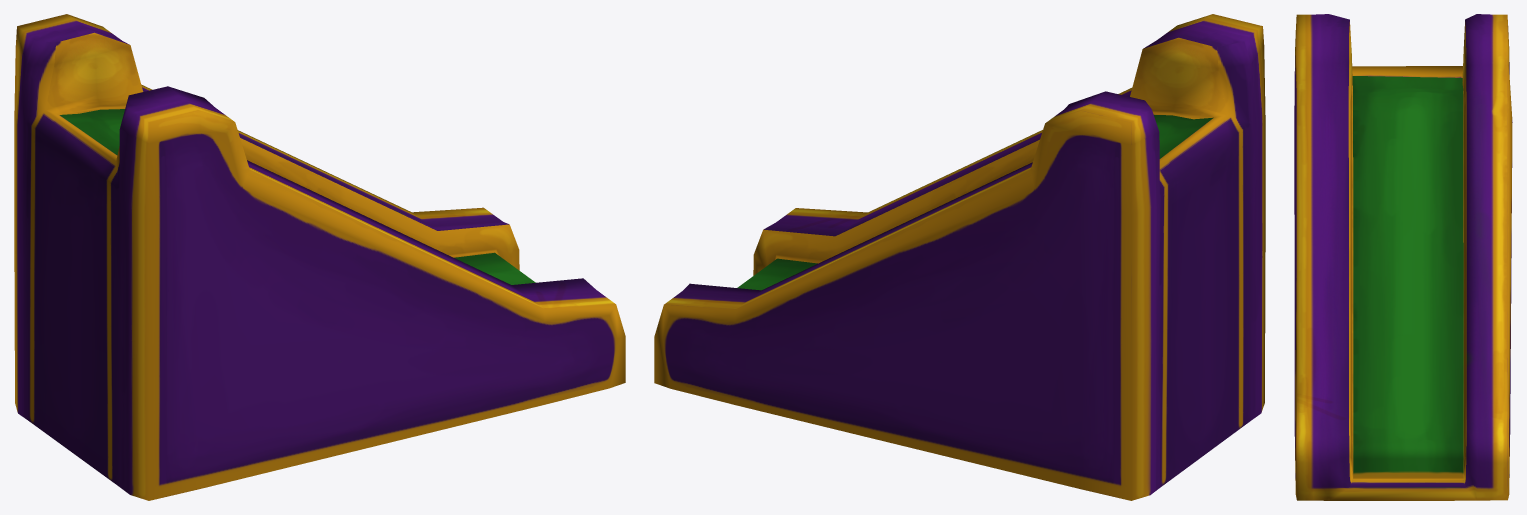
The model's file is Slide.fbx.
3 views of the same model, side by side, from view 1: azimuth 30°, elevation 25°; view 2: azimuth 150°, elevation 25°; view 3: azimuth 270°, elevation 25° (orthographic). The views are drawn at different scales.
Parts seen in each view (by area): view 1: Slide; view 2: Slide; view 3: Slide.
Boxes of the visible parts, x1,y1,x2,y2 form: Slide: [14, 14, 625, 500]; Slide: [654, 14, 1265, 500]; Slide: [1294, 14, 1512, 500].
Size of the model in its own units: 21.89 by 16.25 by 10.64.
